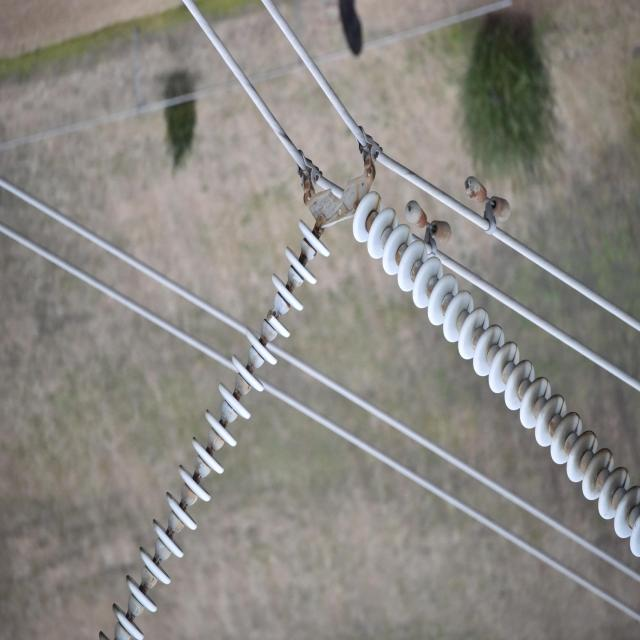broken: (264, 303, 281, 329)
insulator: (351, 186, 640, 558), (96, 216, 332, 640)
